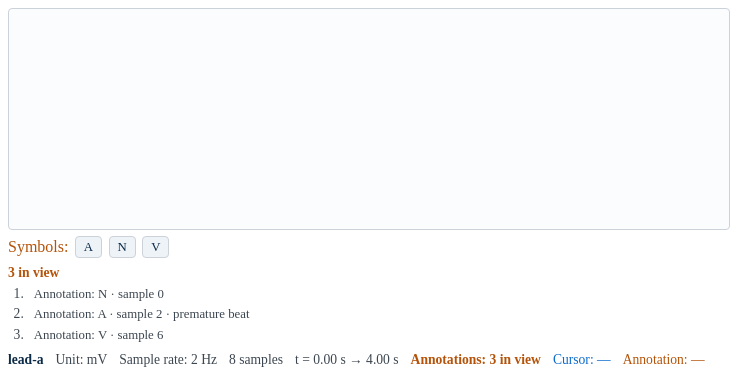
Test case: TimeSeriesView (jsdom slice) › bounded annotation list panel (Phase 17 item 3) › shrinks the list to the symbol selection the legend drives
What coordinates should you click on to do the following:
click the button "N"
I would click on:
 (122, 247)
Its box is [108, 236, 136, 258].
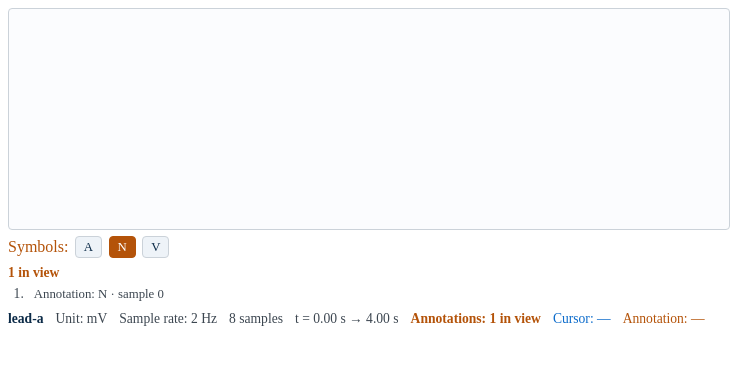
Now the text with class "series-annotation-list-caption" reads "1 in view", box [8, 265, 59, 280]
